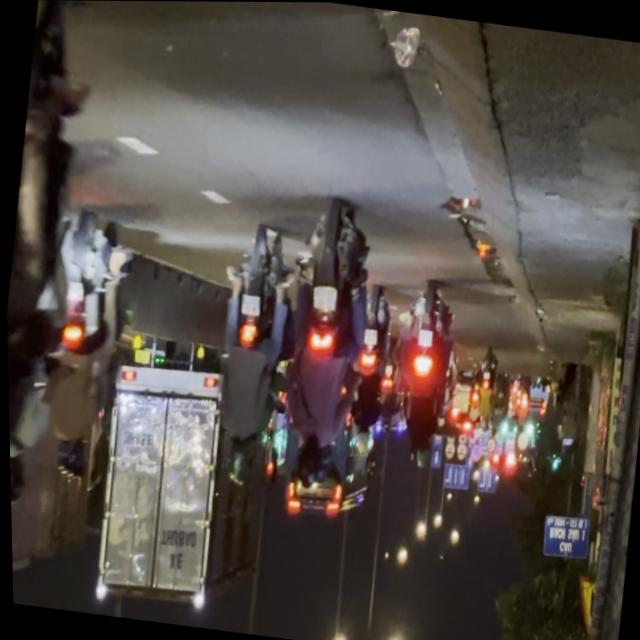helmet: (287, 439, 320, 490), (219, 439, 250, 486)
licenseplate: (0, 0, 117, 606), (265, 195, 380, 497), (195, 207, 304, 492)
nohelmet: (307, 284, 335, 311), (237, 294, 258, 316)
